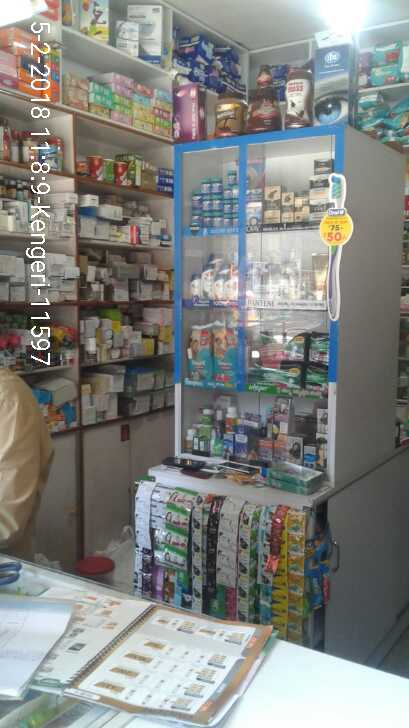beauty: (306, 168, 332, 220), (262, 180, 277, 229), (277, 187, 294, 221), (200, 263, 211, 299), (187, 272, 199, 300), (214, 271, 224, 302)
pharmacy: (187, 319, 215, 382), (212, 322, 239, 386), (248, 357, 303, 386), (261, 325, 305, 359), (186, 210, 219, 228), (224, 195, 238, 226), (198, 176, 212, 196), (212, 174, 223, 195), (227, 166, 239, 184), (210, 193, 221, 211), (202, 195, 212, 210), (191, 192, 199, 210)
